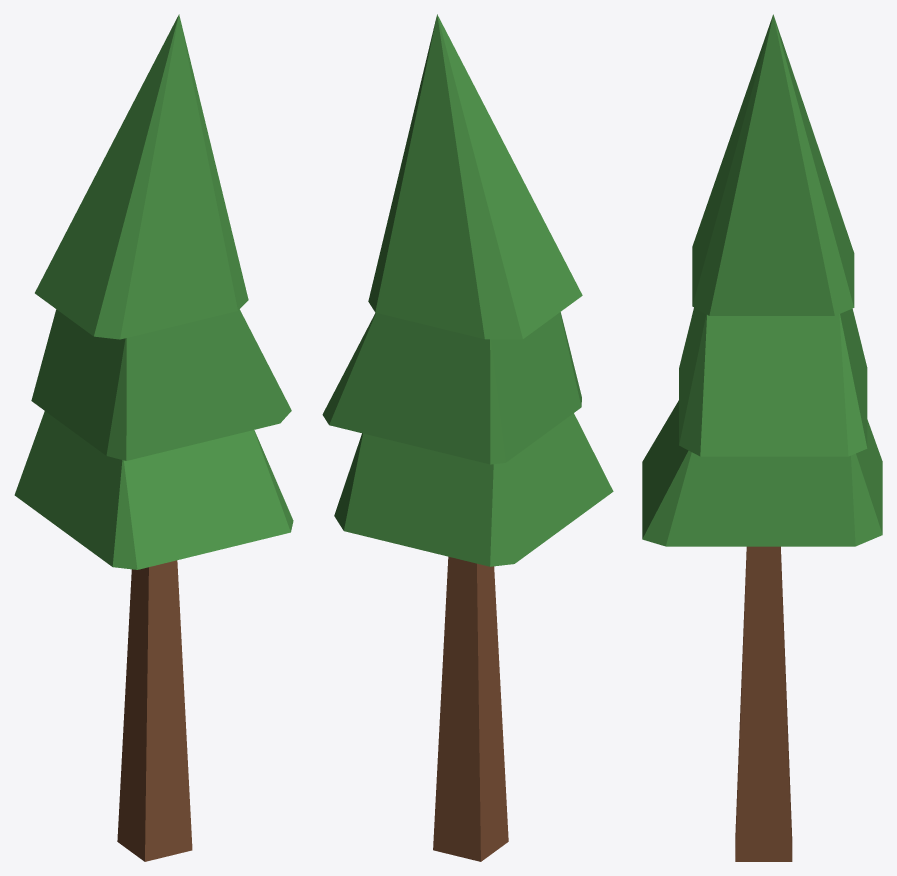
Rendered from pine-b.glb.
3 renders of one model, left to right at view 1: azimuth 30°, elevation 25°; view 2: azimuth 150°, elevation 25°; view 3: azimuth 270°, elevation 25°, orthographic. The views are drawn at different scales.
Parts seen in each view (by area): view 1: pine-b; view 2: pine-b; view 3: pine-b.
Boxes of the visible parts, x1,y1,x2,y2 form: pine-b: (14, 14, 293, 861); pine-b: (322, 14, 613, 861); pine-b: (642, 14, 882, 861).
Bounding box in the file's own units: 0.2317 × 0.9178 × 0.2352.
